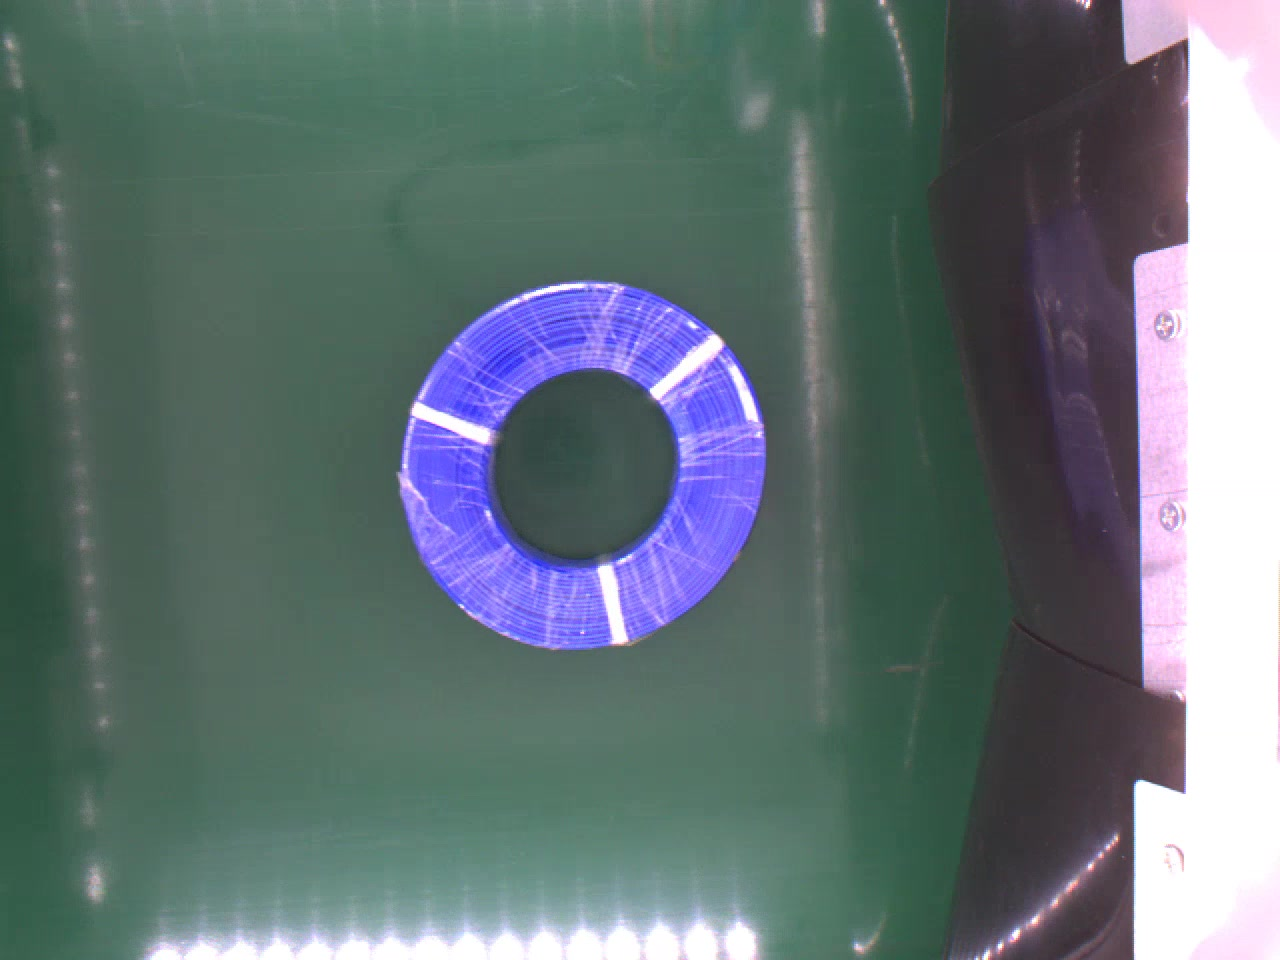blue: (385, 274, 779, 652)
